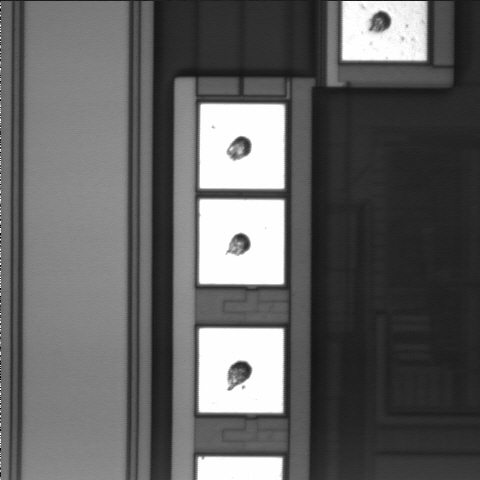pad: (200, 104, 285, 189), (199, 199, 284, 284), (199, 328, 283, 413)
